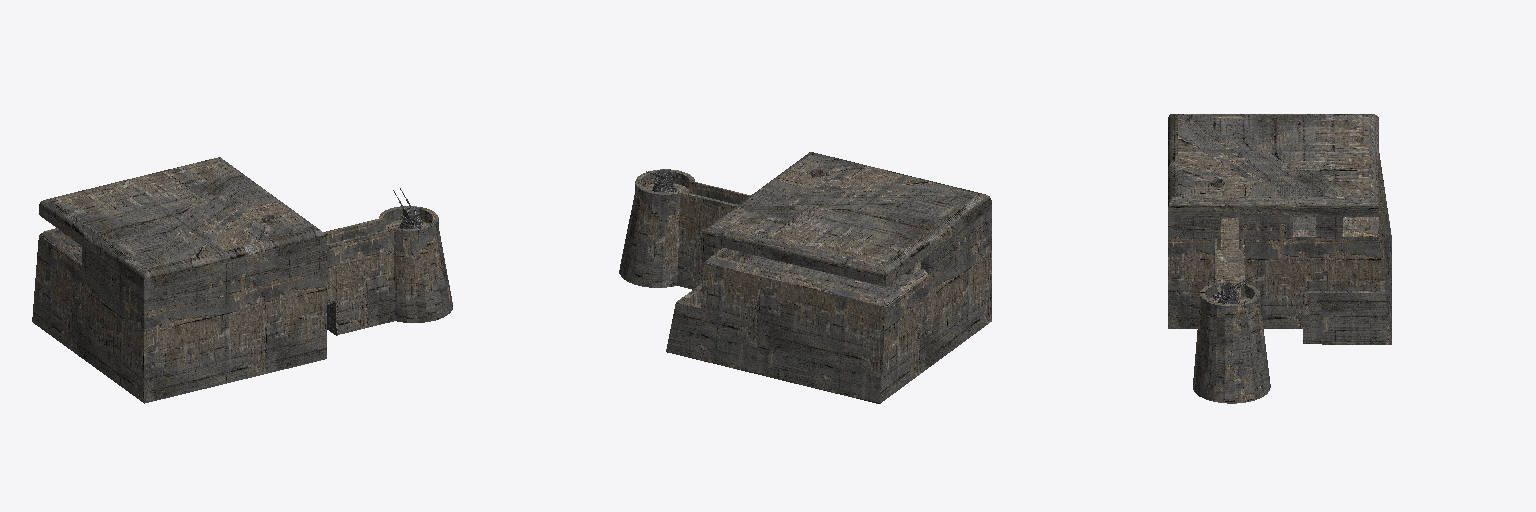
The picture shows the model from 3 angles: view 1: azimuth 30°, elevation 25°; view 2: azimuth 150°, elevation 25°; view 3: azimuth 270°, elevation 25°; orthographic projection.
Parts seen in each view (by area): view 1: bottom_bun2, roof12, Mesh052, Mesh053; view 2: bottom_bun2, roof12, Mesh052; view 3: bottom_bun2, roof12, Mesh052.
Boxes of the visible parts, <box> form: bottom_bun2: <box>32,228,326,403</box>; roof12: <box>39,157,326,290</box>; Mesh052: <box>324,206,452,334</box>; Mesh053: <box>327,216,423,335</box>; bottom_bun2: <box>666,210,991,403</box>; roof12: <box>704,152,991,286</box>; Mesh052: <box>619,169,750,289</box>; bottom_bun2: <box>1168,153,1391,344</box>; roof12: <box>1168,114,1378,216</box>; Mesh052: <box>1193,239,1270,403</box>.
Bounding box in the file's own units: 527 × 199 × 305.
Materials: 2 (2 with a texture image).